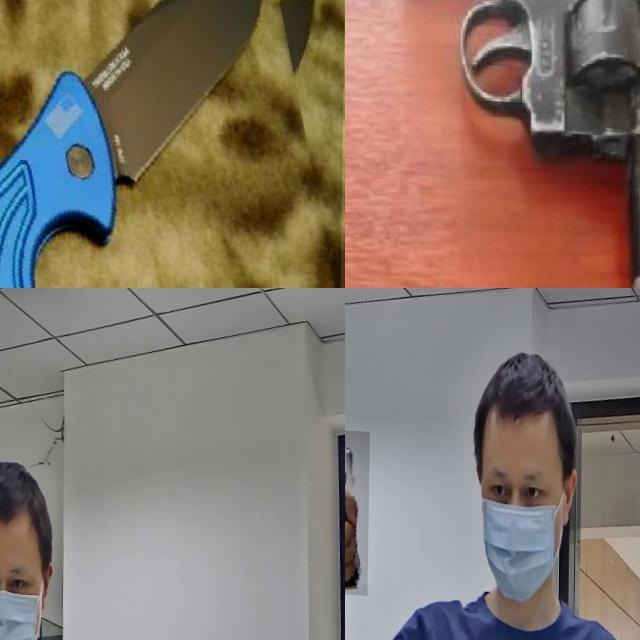-: (0, 0, 345, 288), (345, 0, 409, 288)
gun-knife-thesis - v11 Yolov5 augmented: (345, 424, 386, 592), (0, 428, 26, 579)
